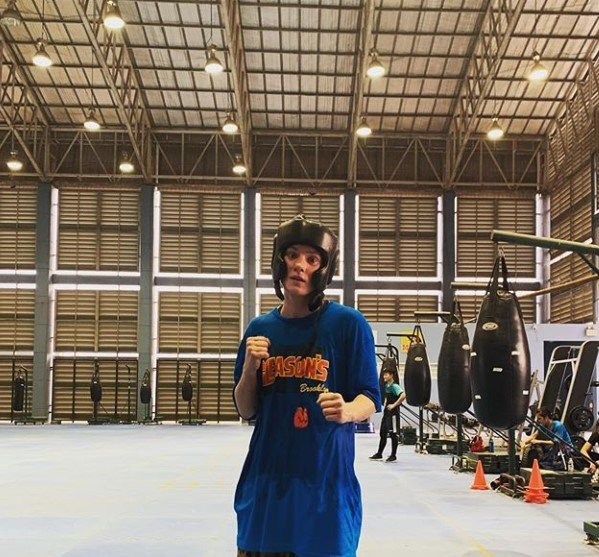face_no_mask: (274, 228, 329, 307)
